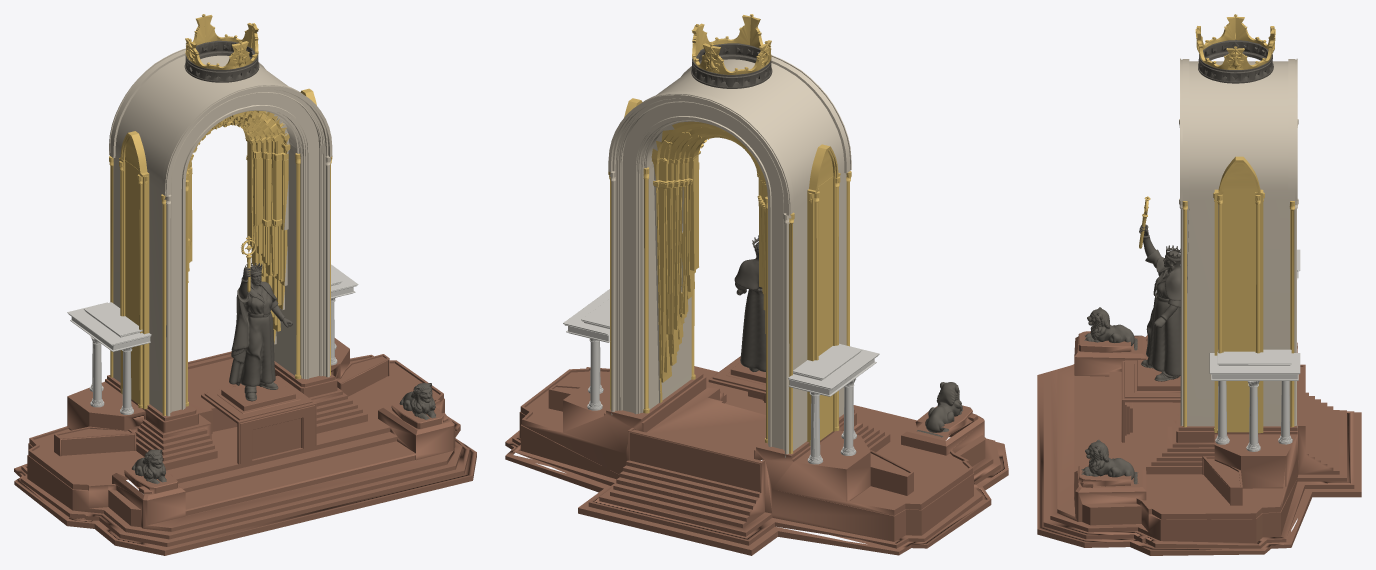
The model's file is ismoili_somoni_v3.glb.
3 renders of one model, left to right at view 1: azimuth 30°, elevation 25°; view 2: azimuth 150°, elevation 25°; view 3: azimuth 270°, elevation 25°, orthographic. The views are drawn at different scales.
Parts seen in each view (by area): view 1: Base_Platform_LOD0, Arch_LOD0, Arch_Pilasters_LOD0, Statue_Pedestal_LOD0, Statue_LOD0, Colonnade_Entablatures_LOD0, Crown_LOD0, Crown_Base_LOD0, Colonnade_Columns_LOD0, Lion_R_LOD0, Lion_L_LOD0; view 2: Base_Platform_LOD0, Arch_LOD0, Arch_Pilasters_LOD0, Colonnade_Entablatures_LOD0, Statue_LOD0, Colonnade_Columns_LOD0, Crown_LOD0, Crown_Base_LOD0, Statue_Pedestal_LOD0, Lion_L_LOD0; view 3: Base_Platform_LOD0, Arch_LOD0, Arch_Pilasters_LOD0, Statue_LOD0, Colonnade_Entablatures_LOD0, Statue_Pedestal_LOD0, Crown_Base_LOD0, Colonnade_Columns_LOD0, Crown_LOD0, Lion_R_LOD0, Lion_L_LOD0.
Part boxes in pixels (x1,y1,x2,y2): Base_Platform_LOD0: (14,338,476,555); Arch_LOD0: (109,48,332,416); Arch_Pilasters_LOD0: (109,88,332,415); Statue_Pedestal_LOD0: (201,375,316,464); Statue_LOD0: (229,267,292,386); Colonnade_Entablatures_LOD0: (67,264,358,351); Crown_LOD0: (185,14,258,69); Crown_Base_LOD0: (184,40,259,82); Colonnade_Columns_LOD0: (89,297,337,414); Lion_R_LOD0: (391,383,436,419); Lion_L_LOD0: (131,449,166,484); Base_Platform_LOD0: (505,366,1008,555); Arch_LOD0: (608,55,851,457); Arch_Pilasters_LOD0: (608,98,851,453); Colonnade_Entablatures_LOD0: (563,289,879,396); Statue_LOD0: (734,242,765,371); Colonnade_Columns_LOD0: (587,338,856,464); Crown_LOD0: (692,14,771,74); Crown_Base_LOD0: (691,43,772,88); Statue_Pedestal_LOD0: (708,356,765,402); Lion_L_LOD0: (917,382,962,437); Base_Platform_LOD0: (1037,331,1361,555); Arch_LOD0: (1179,58,1298,427); Arch_Pilasters_LOD0: (1182,156,1295,433); Statue_LOD0: (1139,224,1180,376); Colonnade_Entablatures_LOD0: (1209,249,1300,380); Statue_Pedestal_LOD0: (1121,360,1180,442); Crown_Base_LOD0: (1198,39,1273,83); Colonnade_Columns_LOD0: (1215,381,1292,451); Crown_LOD0: (1195,14,1275,69); Lion_R_LOD0: (1081,439,1138,484); Lion_L_LOD0: (1084,307,1137,350).
Size of what is drawn, in the model's own units: 42.23 by 43 by 29.38.
